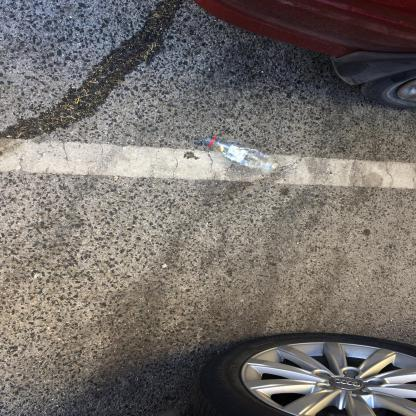plastik: (204, 135, 281, 177)
